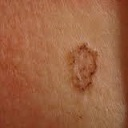Carcinoma: (64, 39, 101, 93)
